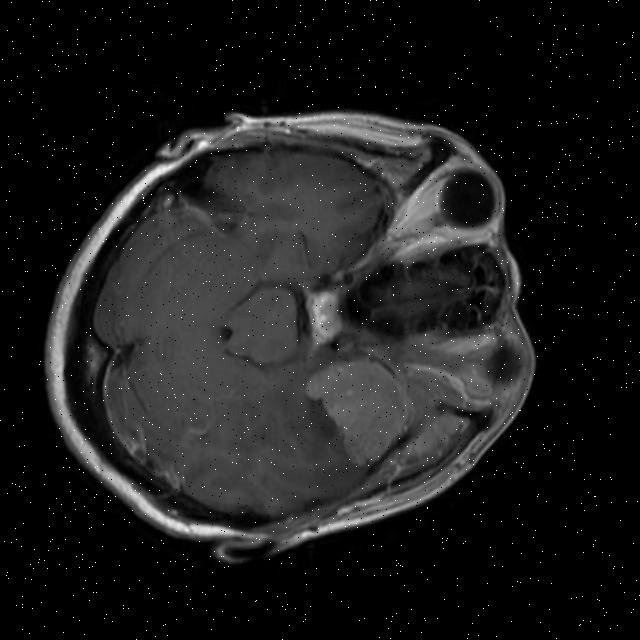Meningioma: (295, 350, 418, 474)
